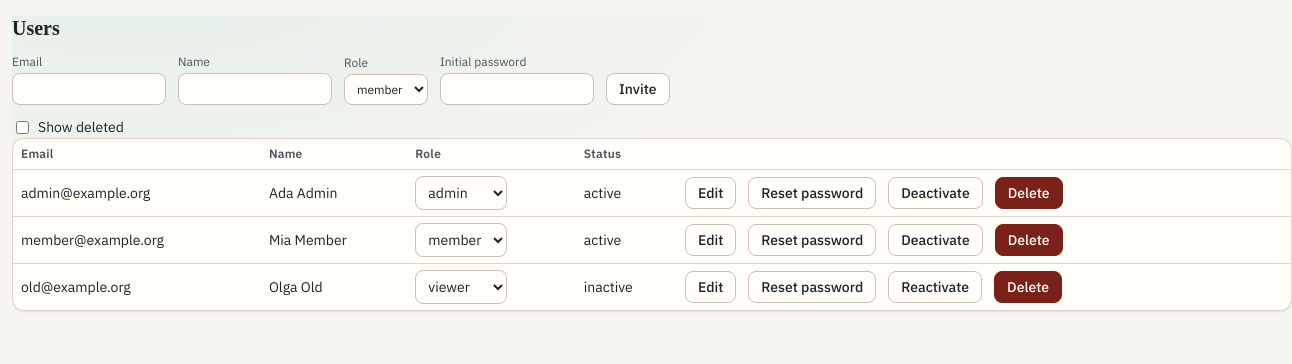
Scenario: UsersPage › shows the server's reason when the last admin cannot be changed
Click the button with aria-label "Deactivate admin@example.org": point(935, 193) top-left (888, 177), bottom-right (983, 209)
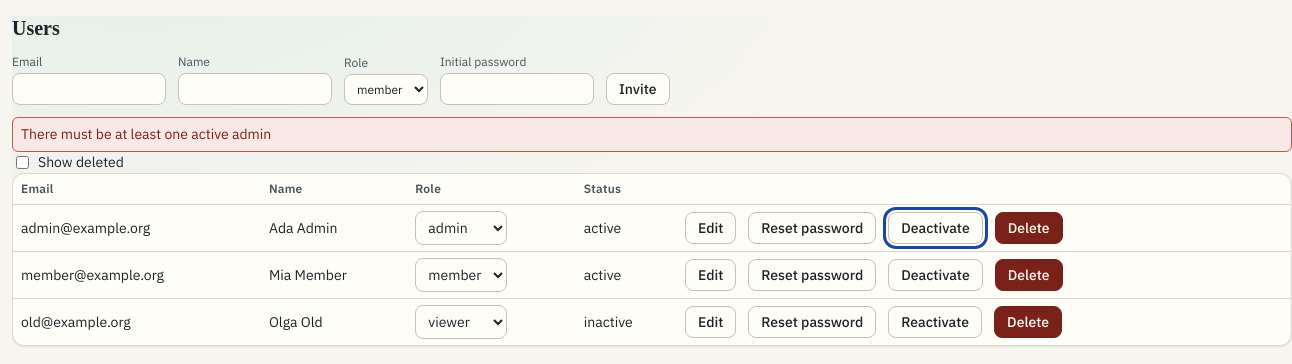
Expected: the message shows "at least one active admin", top-left (21, 125), bottom-right (271, 143)
